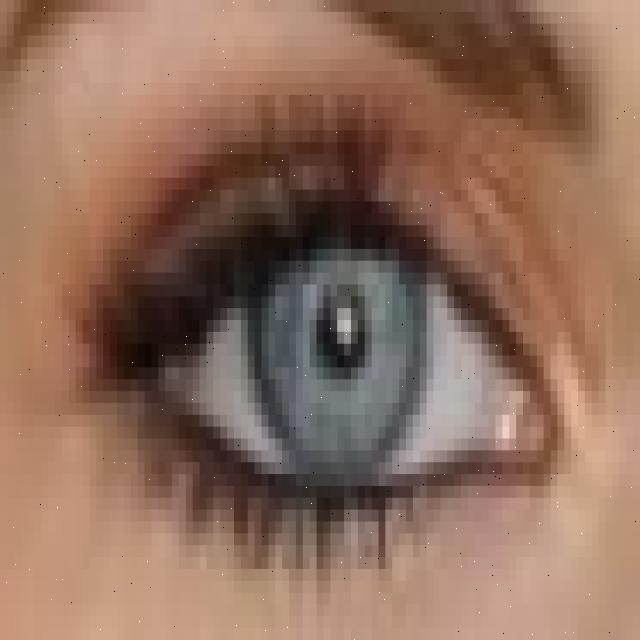Normal: (249, 200, 427, 486)
